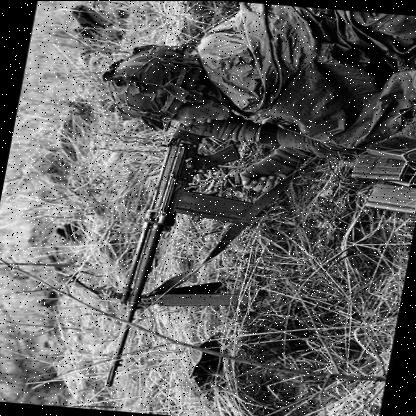rifle: (92, 121, 253, 393)
